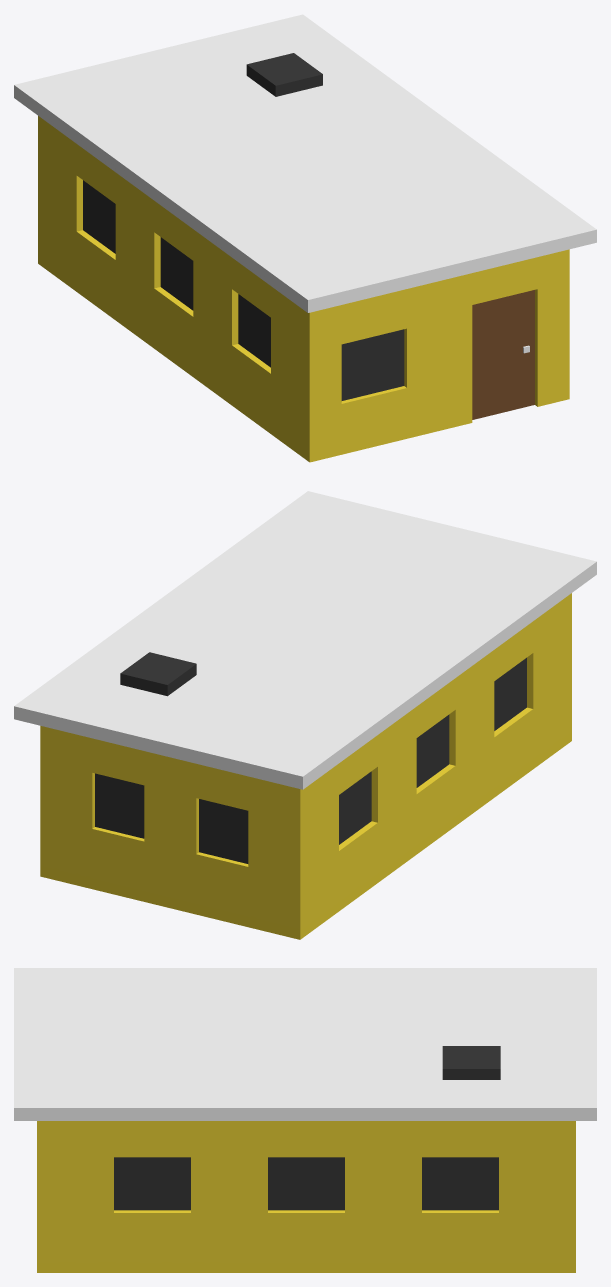
File: Building 01.FBX
3 renders of one model, top to bottom at view 1: azimuth 30°, elevation 25°; view 2: azimuth 150°, elevation 25°; view 3: azimuth 270°, elevation 25°, orthographic.
Visible parts, largest first — view 1: Box001; view 2: Box001; view 3: Box001.
Part boxes in pixels (x1,y1,x2,y2): Box001: (14, 14, 596, 462); Box001: (14, 491, 596, 939); Box001: (14, 968, 596, 1272).
Size of the model in its own units: 23.21 by 14.22 by 40.9.
